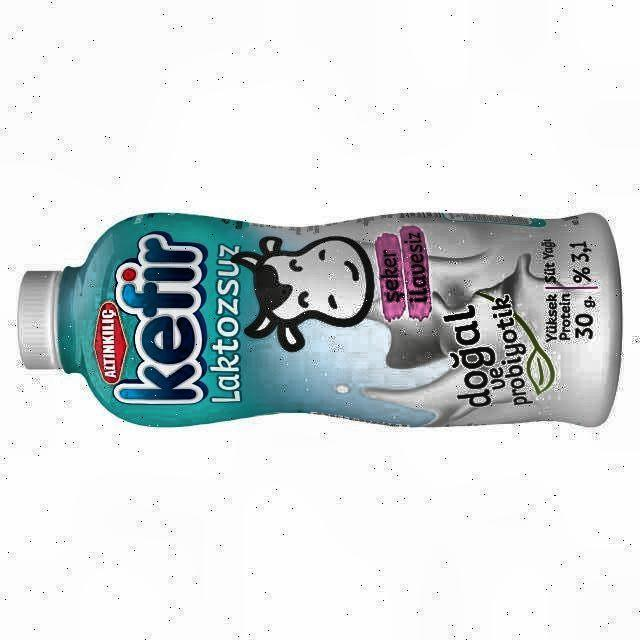plastic: (18, 212, 621, 426)
